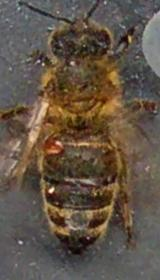varroa_mite: (41, 136, 68, 157)
